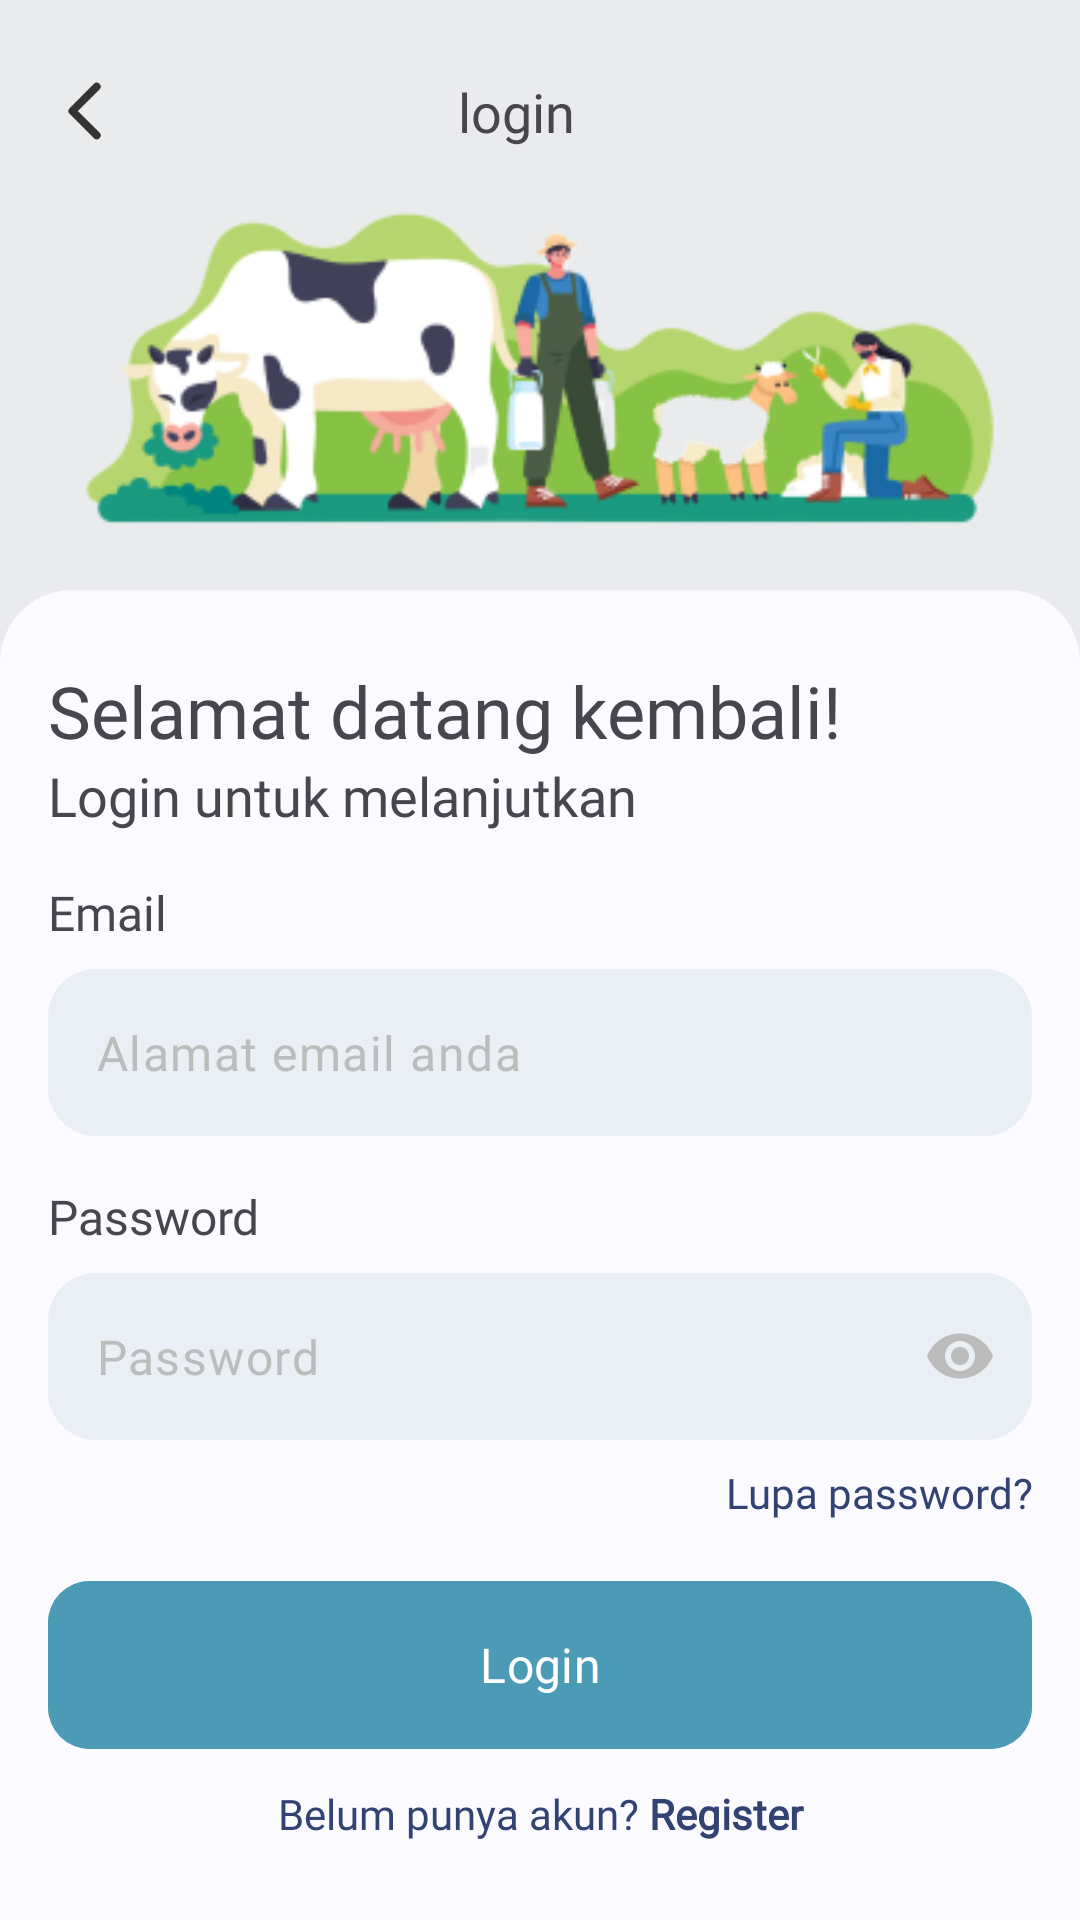

Icon click points for this 1080px×1920px phone screenshot, format (x=x, y=y):
caretleft: (x=84, y=111)
